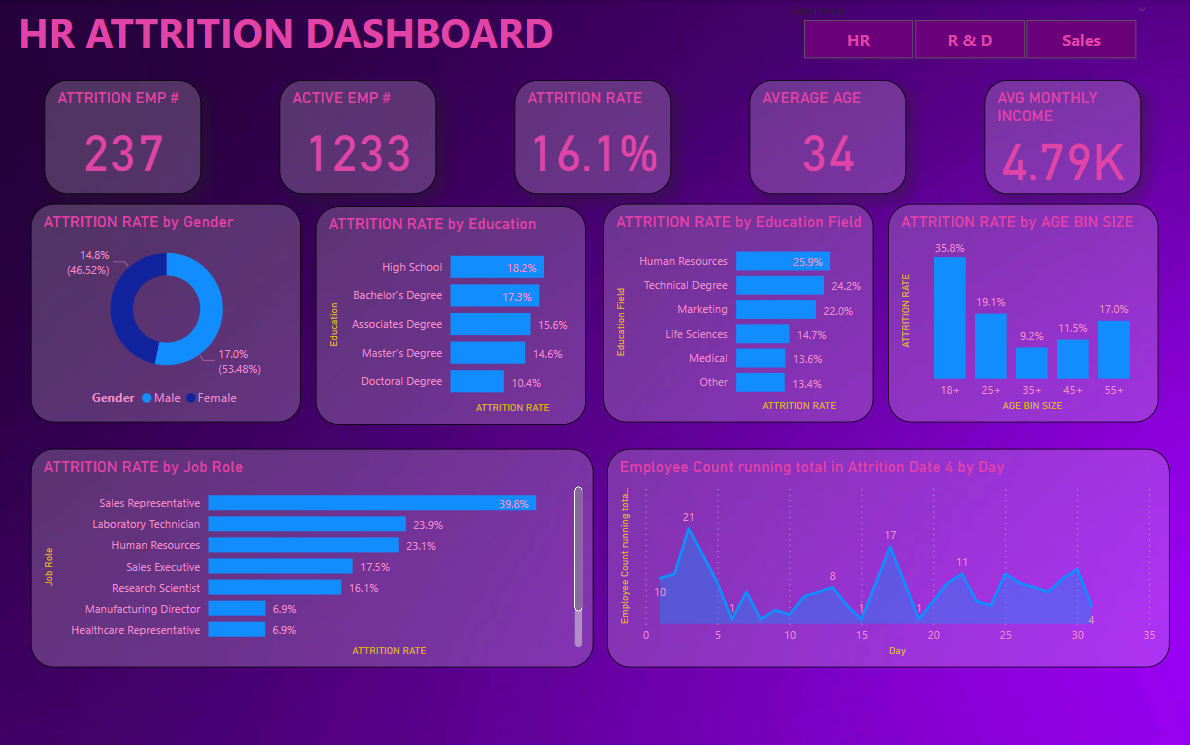

The dashboard page shown, as its layout file describes it:
{"tool":"powerbi","page":{"name":"Page 1","canvas":[1280,800],"ordinal":0},"visuals":[{"type":"textbox","box":[17.4,0,789.3,85.8],"z":0},{"type":"slicer","fields":{"Values":["Attrition.Department"]},"box":[838.4,0,406.4,69.6],"z":1000},{"type":"card","title":"ATTRITION EMP #","fields":{"Values":["Sum(Attrition.Employee Count)"]},"box":[51.2,85.3,167.7,122.2],"z":2000},{"type":"card","title":"    ACTIVE EMP #","fields":{"Values":["Sum(Attrition.Employee Count)"]},"box":[303,85.3,167.7,122.2],"z":3000},{"type":"card","title":"ATTRITION RATE","fields":{"Values":["Attrition.ATTRITION RATE"]},"box":[554.9,85.3,167.7,122.2],"z":4000},{"type":"card","title":"AVERAGE AGE","fields":{"Values":["Avg(Attrition.Age (copy))"]},"box":[806.8,85.3,167.7,122.2],"z":5000},{"type":"card","title":"AVG MONTHLY INCOME","fields":{"Values":["Avg(Attrition.Monthly Income)"]},"box":[1058.6,85.3,167.7,122.2],"z":6000},{"type":"donutChart","fields":{"Y":["Attrition.ATTRITION RATE"],"Category":["Attrition.Gender"]},"box":[35.5,218.8,289.9,234.5],"z":7000},{"type":"clusteredBarChart","fields":{"Y":["Attrition.ATTRITION RATE"],"Category":["Attrition.Education"]},"box":[342,221.7,289.9,234.5],"z":8000},{"type":"clusteredBarChart","fields":{"Y":["Attrition.ATTRITION RATE"],"Category":["Attrition.Education Field"]},"box":[649.4,218.8,289.9,234.5],"z":9000},{"type":"columnChart","fields":{"Y":["Attrition.ATTRITION RATE"],"Category":["Attrition.AGE BIN SIZE"]},"box":[954.9,218.8,289.9,234.5],"z":10000},{"type":"clusteredBarChart","fields":{"Y":["Attrition.ATTRITION RATE"],"Category":["Attrition.Job Role"]},"box":[36.2,481.1,603,234.5],"z":11000},{"type":"areaChart","fields":{"Y":["Attrition.Employee Count running total in Attrition Date 4"],"Category":["Attrition.Attrition Date.Variation.Date Hierarchy.Day"]},"box":[653.9,481.1,603,234.5],"z":12000}]}

Visuals, with their boxes in screenshot pixels (x1, y1, x2, y2), scaled from the page's 1280x800 canvas onto the 1190x745 screenshot:
textbox: 16,0,750,80
slicer - Attrition.Department: 779,0,1157,65
"ATTRITION EMP #" card: 48,79,204,193
"    ACTIVE EMP #" card: 282,79,438,193
"ATTRITION RATE" card: 516,79,672,193
"AVERAGE AGE" card: 750,79,906,193
"AVG MONTHLY INCOME" card: 984,79,1140,193
donutChart - Attrition.ATTRITION RATE x Attrition.Gender: 33,204,303,422
clusteredBarChart - Attrition.ATTRITION RATE x Attrition.Education: 318,206,587,425
clusteredBarChart - Attrition.ATTRITION RATE x Attrition.Education Field: 604,204,873,422
columnChart - Attrition.ATTRITION RATE x Attrition.AGE BIN SIZE: 888,204,1157,422
clusteredBarChart - Attrition.ATTRITION RATE x Attrition.Job Role: 34,448,594,666
areaChart - Attrition.Employee Count running total in Attrition Date 4 x Attrition.Attrition Date.Variation.Date Hierarchy.Day: 608,448,1169,666
